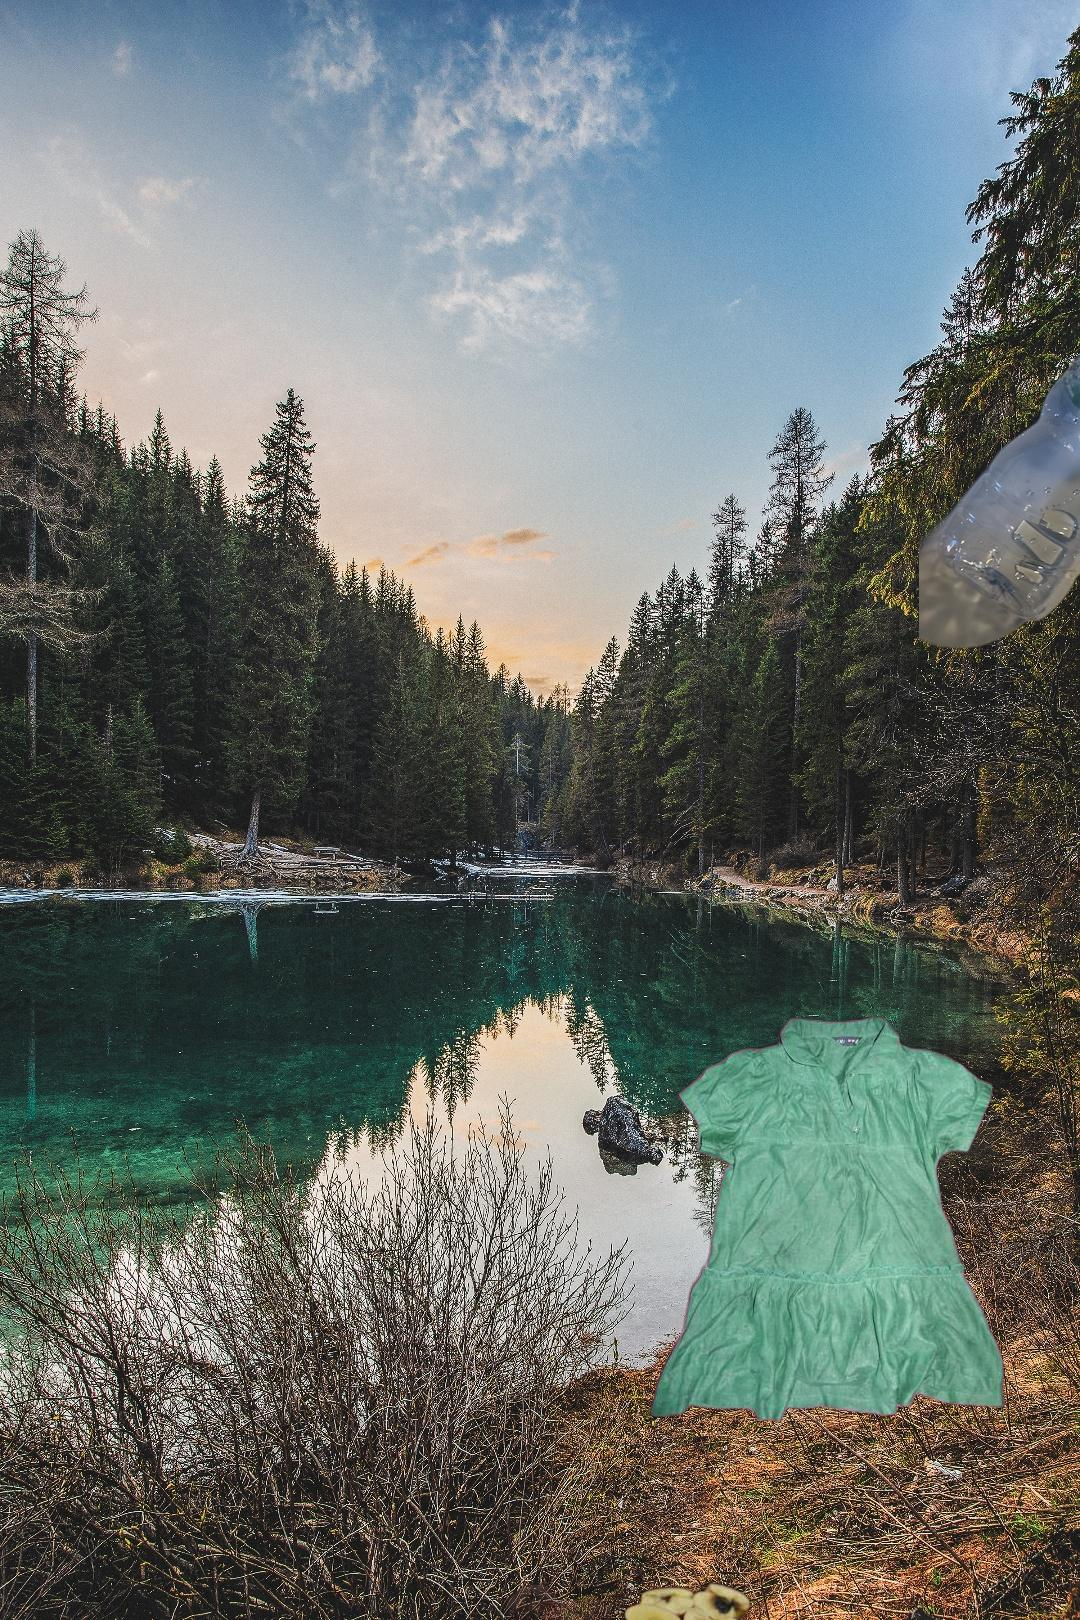biological: (504, 1528, 777, 1620)
clothes: (647, 1011, 1006, 1427)
plastic-bottles: (918, 245, 1080, 717)
